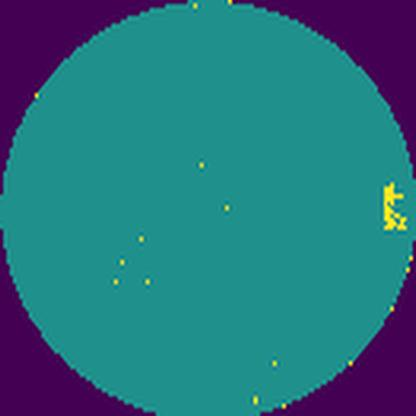Loc: (382, 183, 409, 235)
